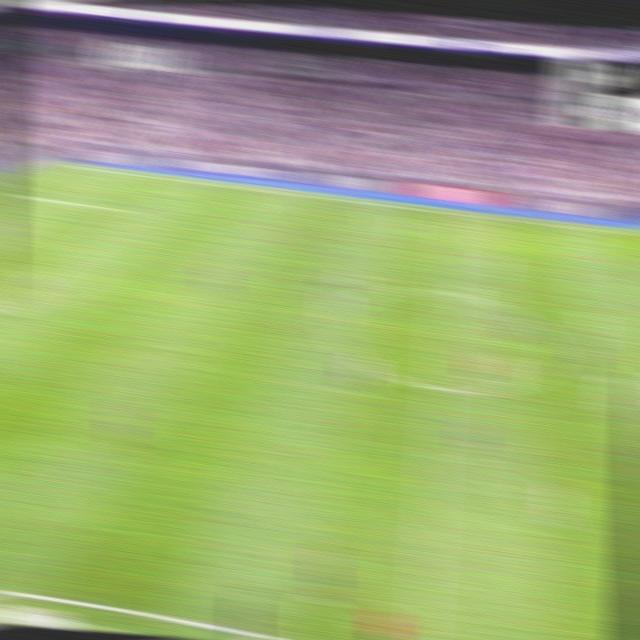bigarea_top_inner: (121, 203, 143, 218)
bottom_arc_area_intersection: (0, 301, 12, 317)
corner: (42, 157, 67, 169)
halfcircle_bottom: (424, 373, 452, 402)
halfcircle_top: (432, 278, 459, 303)
midline_top_intersection: (440, 203, 463, 221)
top_arc_area_intersection: (70, 240, 94, 256)
